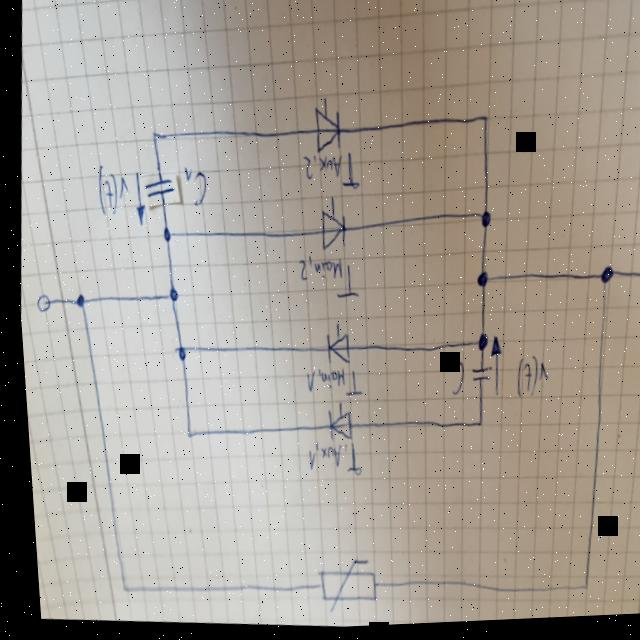capacitor: (139, 177, 175, 204), (463, 366, 489, 391)
junction: (594, 270, 612, 293), (470, 274, 486, 295), (470, 336, 485, 358), (167, 346, 183, 366), (476, 213, 490, 235), (162, 287, 176, 307), (157, 227, 169, 246), (70, 293, 82, 312), (146, 129, 158, 146), (479, 116, 489, 131), (111, 583, 121, 598), (178, 431, 188, 445), (470, 424, 479, 434), (574, 589, 581, 599)
terminal: (30, 293, 48, 314), (635, 267, 640, 296)
text: (290, 255, 359, 308), (296, 151, 361, 197), (297, 441, 359, 483), (297, 367, 361, 405), (90, 162, 131, 221), (508, 355, 547, 406), (435, 358, 464, 405), (178, 167, 207, 213)
thyristor: (309, 107, 342, 158), (315, 210, 346, 257), (319, 410, 349, 448), (320, 333, 348, 371)
